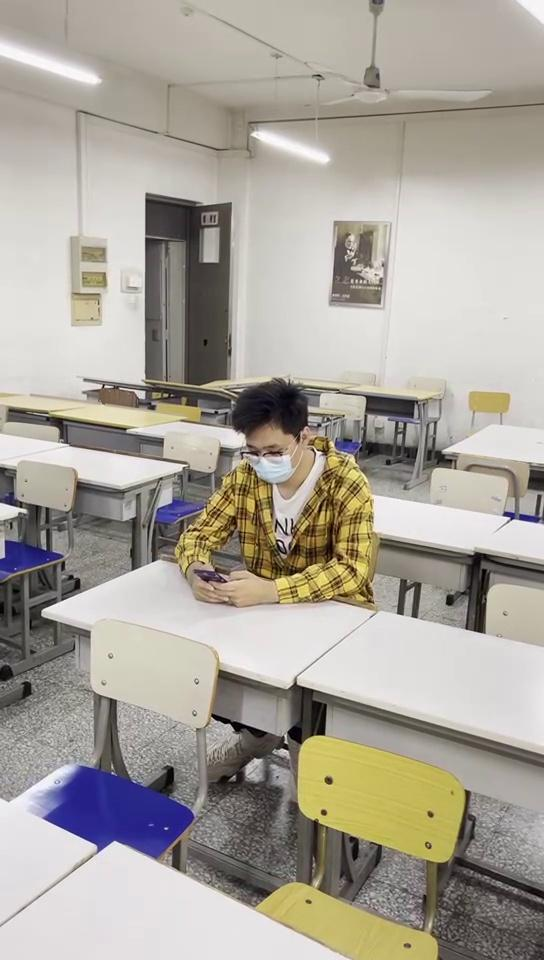phone: (174, 381, 370, 608)
